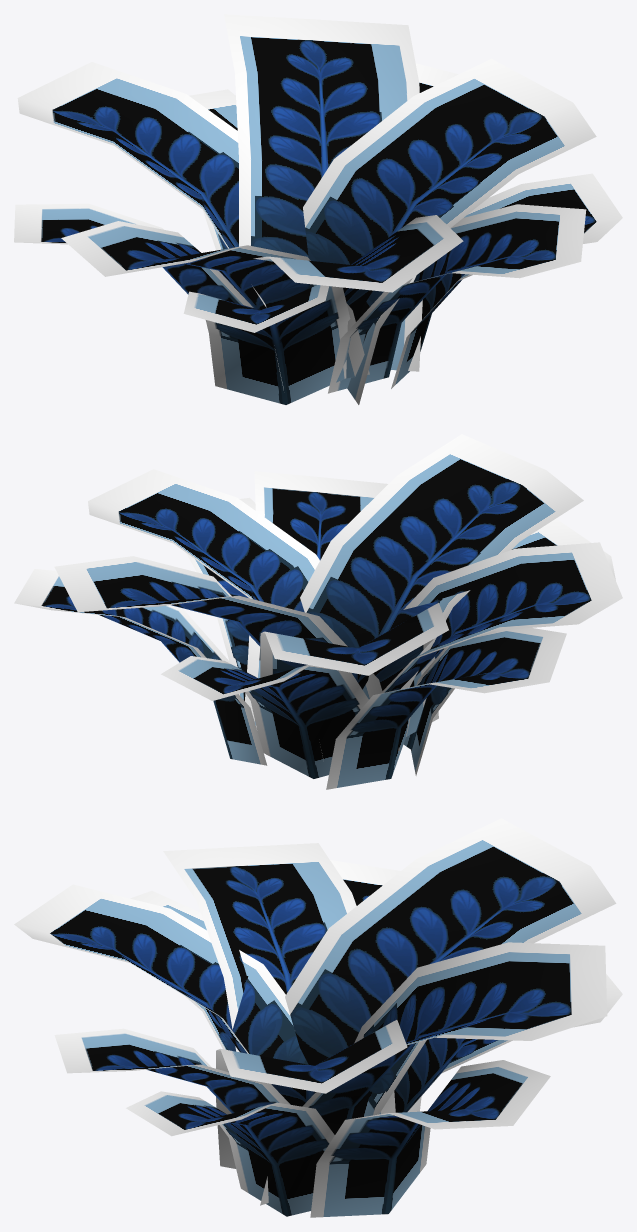
The model's file is Grass4.FBX.
3 views of the same model, one above another, from view 1: azimuth 30°, elevation 25°; view 2: azimuth 150°, elevation 25°; view 3: azimuth 270°, elevation 25° (orthographic). The views are drawn at different scales.
Parts seen in each view (by area): view 1: Grass4; view 2: Grass4; view 3: Grass4.
Part boxes in pixels (x1,y1,x2,y2): Grass4: [14, 14, 622, 404]; Grass4: [14, 434, 622, 789]; Grass4: [14, 818, 622, 1217].
Bounding box in the file's own units: 53.27 × 23.81 × 52.01.
